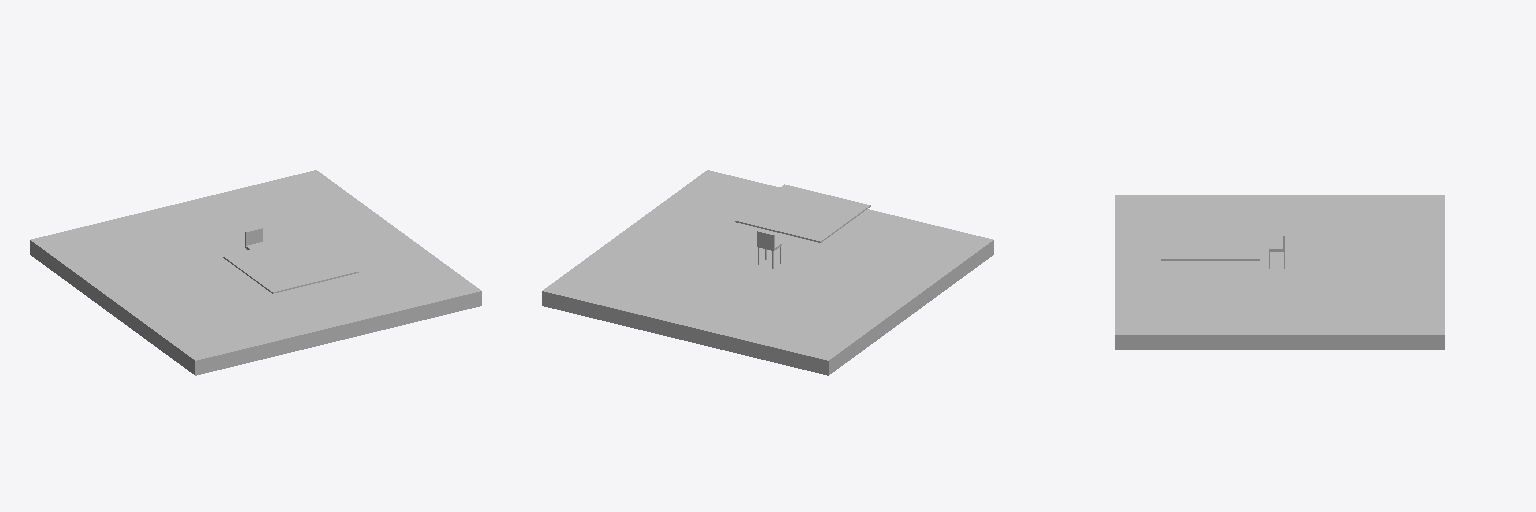
File: chairlateral.unity_8.obj
3 views of the same model, side by side, from view 1: azimuth 30°, elevation 25°; view 2: azimuth 150°, elevation 25°; view 3: azimuth 270°, elevation 25° (orthographic).
Visible parts, largest first — view 1: sol, table; view 2: sol, table; view 3: sol, table.
Boxes of the visible parts, x1,y1,x2,y2 form: sol: [30, 170, 481, 375]; table: [223, 235, 358, 293]; sol: [542, 170, 993, 375]; table: [735, 184, 870, 242]; sol: [1115, 195, 1444, 349]; table: [1161, 217, 1259, 260].
Bounding box in the file's own units: 20 × 3.25 × 20.